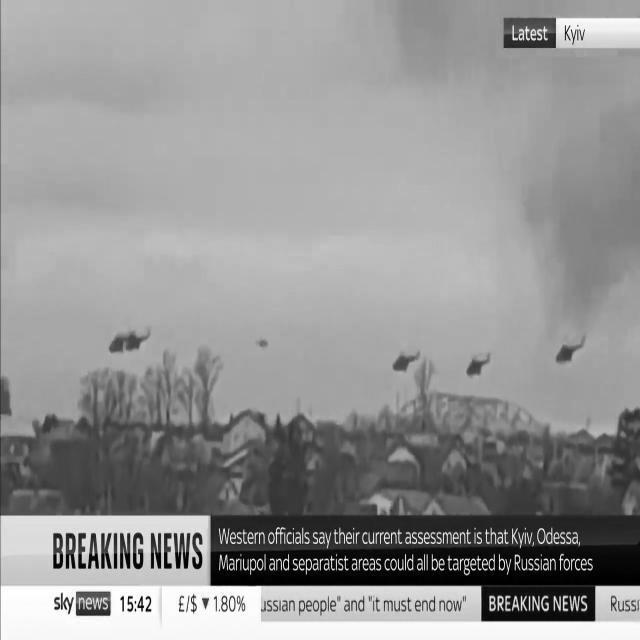helikopter: (546, 315, 596, 394), (386, 330, 426, 391), (458, 336, 496, 398)
